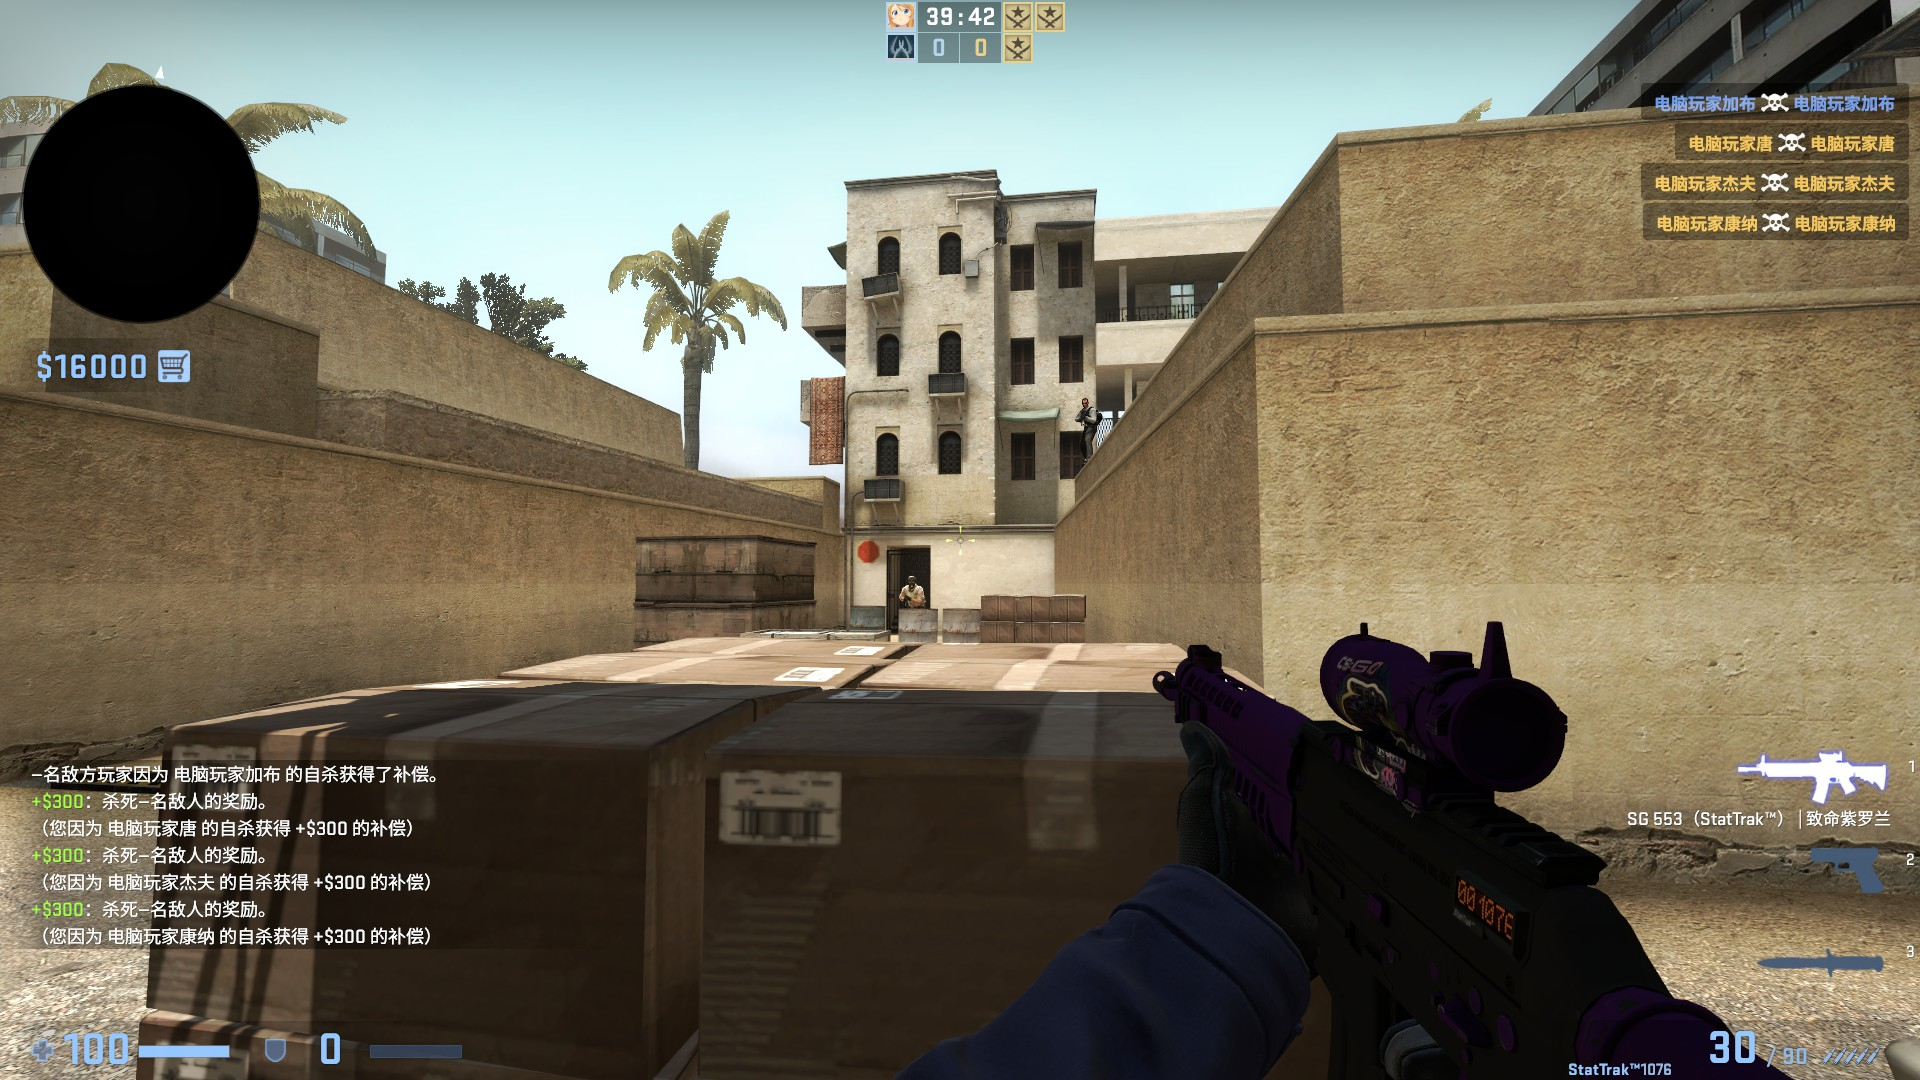head: (905, 575, 916, 590), (1080, 396, 1088, 408)
